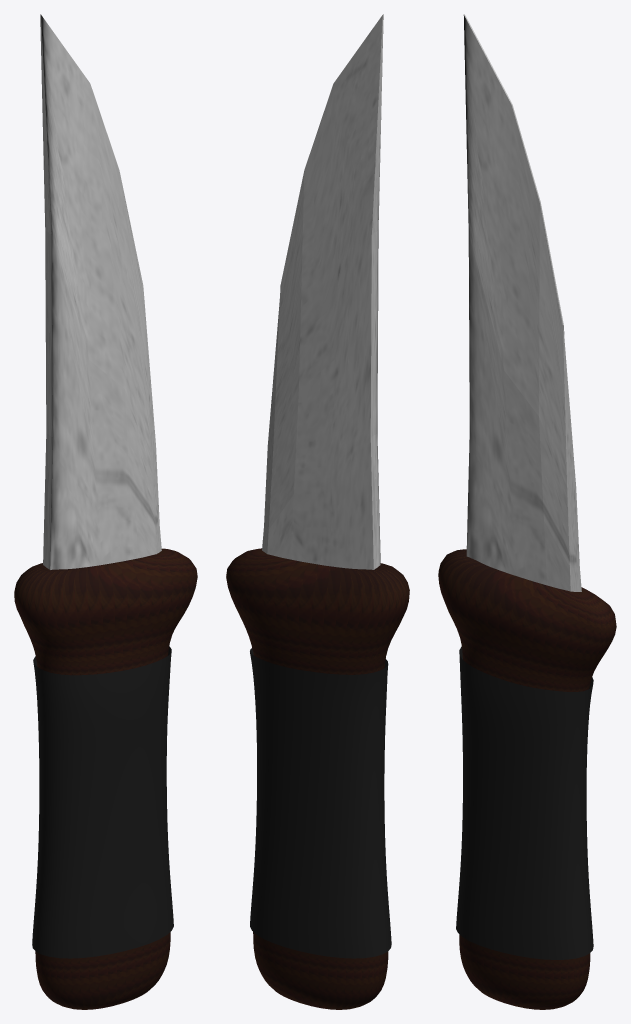
The model's file is Knife for game.glb.
3 renders of one model, left to right at view 1: azimuth 30°, elevation 25°; view 2: azimuth 150°, elevation 25°; view 3: azimuth 330°, elevation 25°, orthographic. The views are drawn at different scales.
Parts seen in each view (by area): view 1: Cube.009; view 2: Cube.009; view 3: Cube.009.
Boxes of the visible parts, x1,y1,x2,y2 form: Cube.009: (14, 14, 197, 1009); Cube.009: (226, 14, 409, 1009); Cube.009: (438, 14, 616, 1009).
Size of the model in its own units: 0.9285 by 5 by 0.39.
3 materials, 2 textured.
